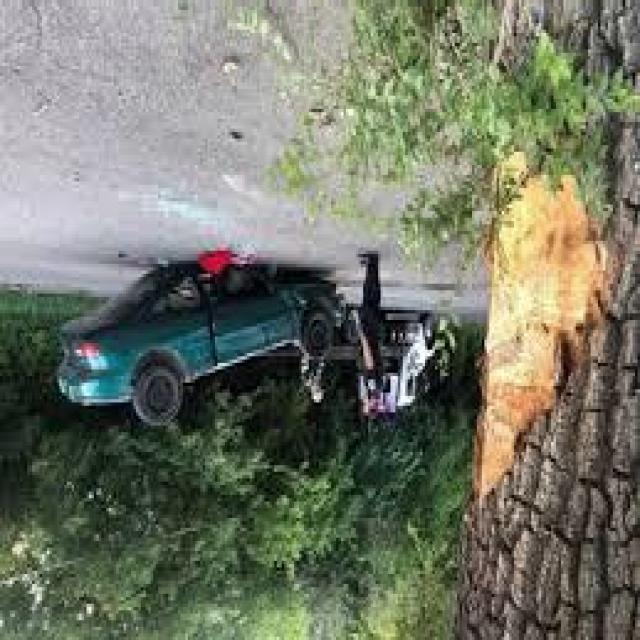severe: (54, 252, 348, 434)
